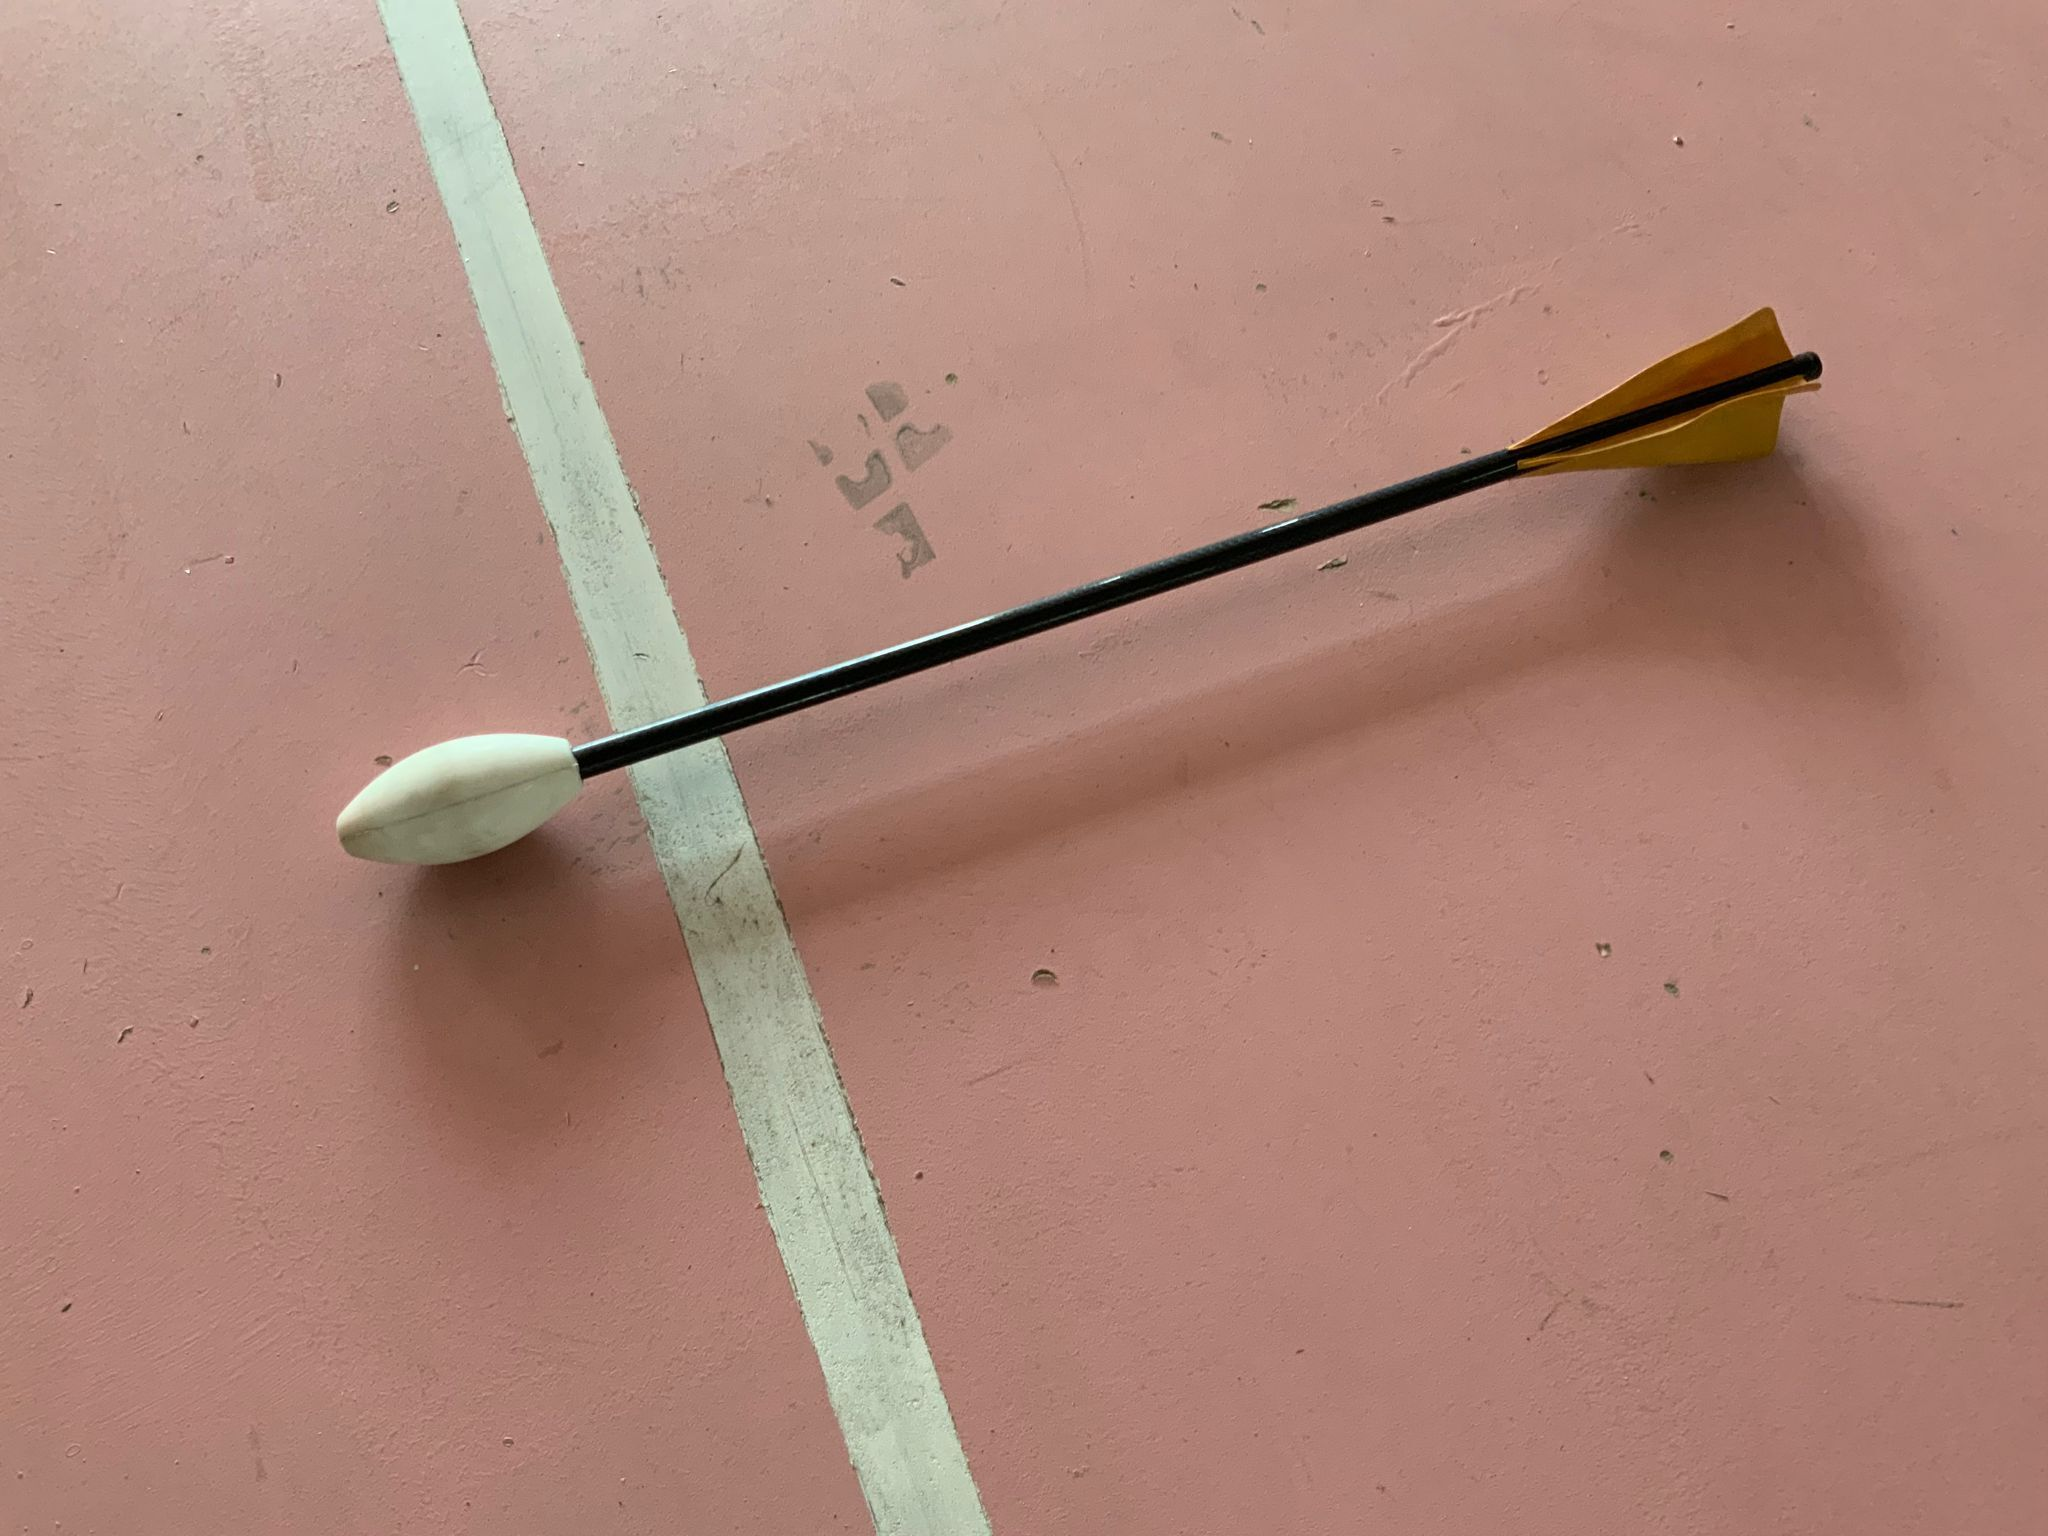arrow: (332, 307, 1829, 868)
arrowFront: (335, 729, 585, 871)
